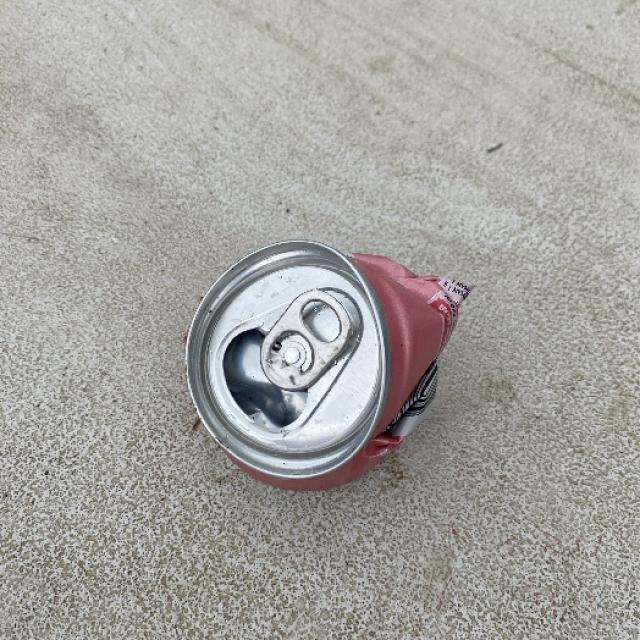metal: (183, 237, 473, 491)
